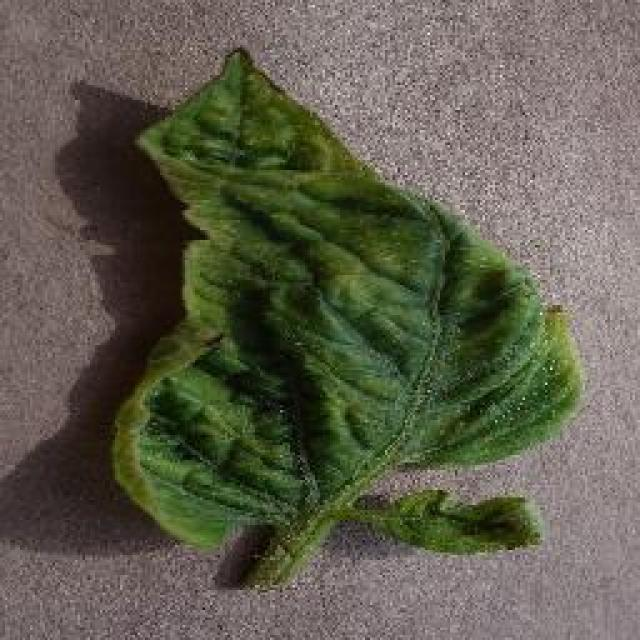Tomato yellow virus leaf: (102, 44, 582, 538), (377, 490, 545, 560)
